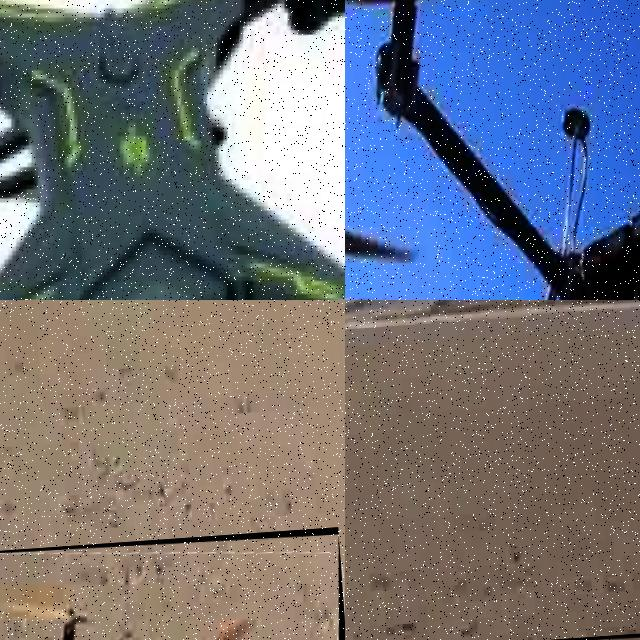0: (345, 0, 640, 300), (0, 526, 345, 640)
drone: (0, 0, 345, 300)
